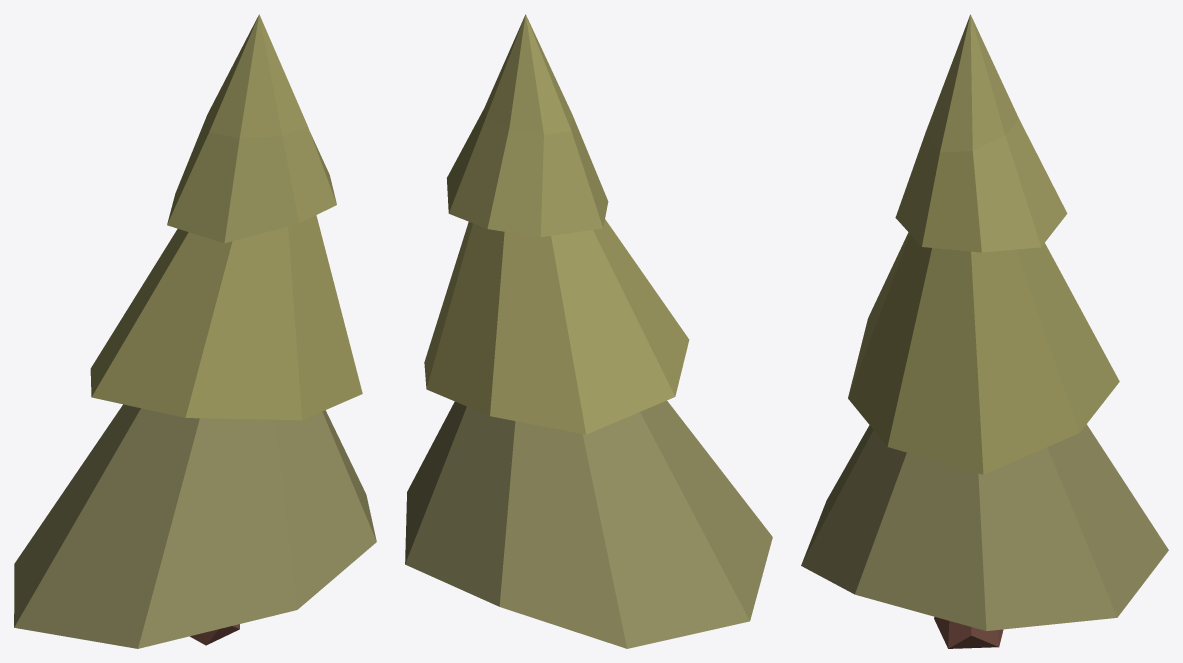
File: spruce4.fbx
3 renders of one model, left to right at view 1: azimuth 30°, elevation 25°; view 2: azimuth 150°, elevation 25°; view 3: azimuth 270°, elevation 25°, orthographic. The views are drawn at different scales.
Parts seen in each view (by area): view 1: Cone.016; view 2: Cone.016; view 3: Cone.016.
Boxes of the visible parts, x1=… form: Cone.016: x1=14, y1=14, x2=376, y2=648; Cone.016: x1=405, y1=14, x2=772, y2=648; Cone.016: x1=801, y1=14, x2=1168, y2=648.
Bounding box in the file's own units: 672 × 1112 × 561.
Materials: 1 (1 with a texture image).
